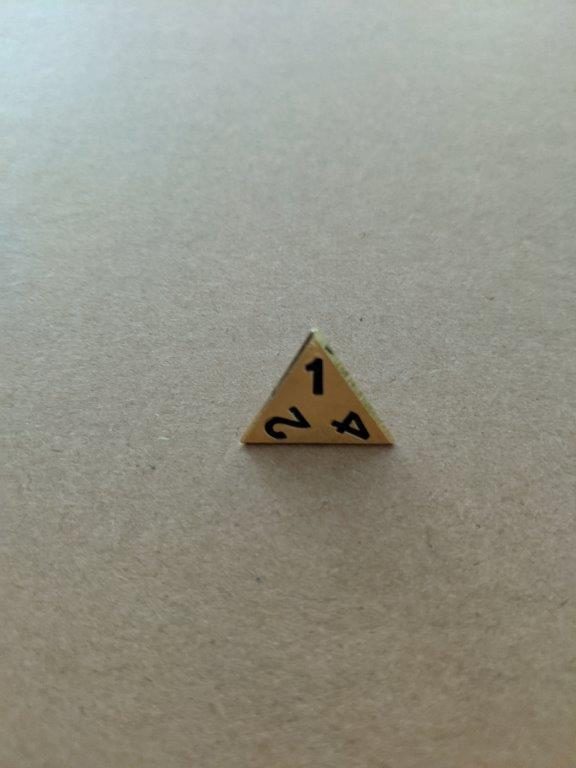d4-1: (231, 322, 401, 455)
